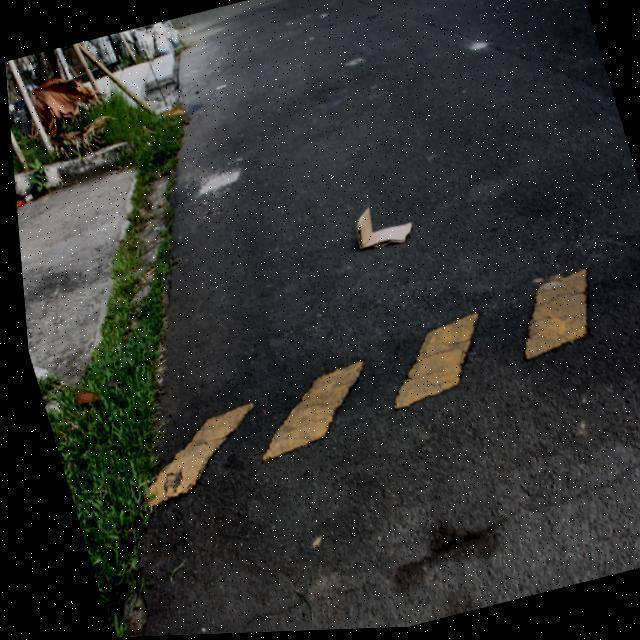Paper_Bag: (344, 200, 413, 257)
